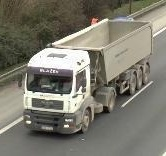truck: (22, 19, 151, 136)
